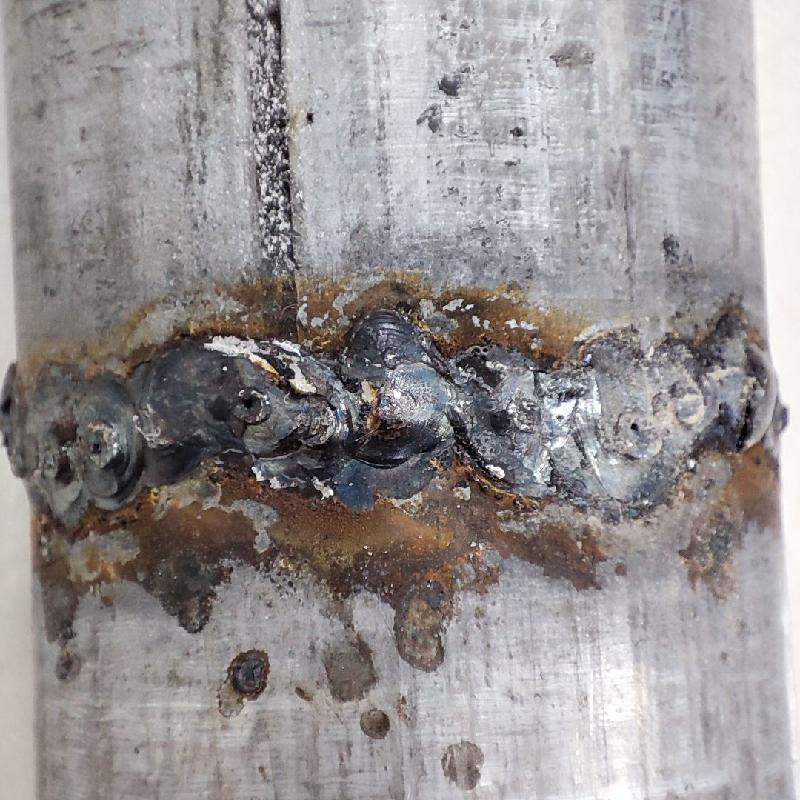Not_fully_soldered: (436, 326, 781, 493)
Weld: (334, 312, 437, 494)
wrong_size: (0, 350, 333, 505)
